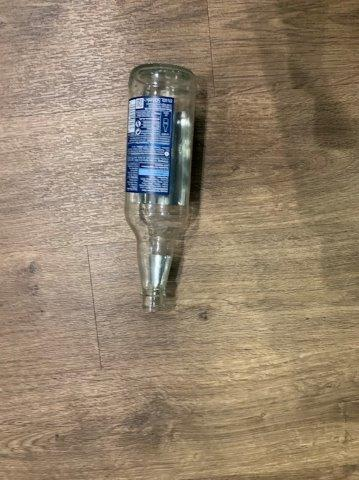botolkaca: (125, 64, 196, 313)
